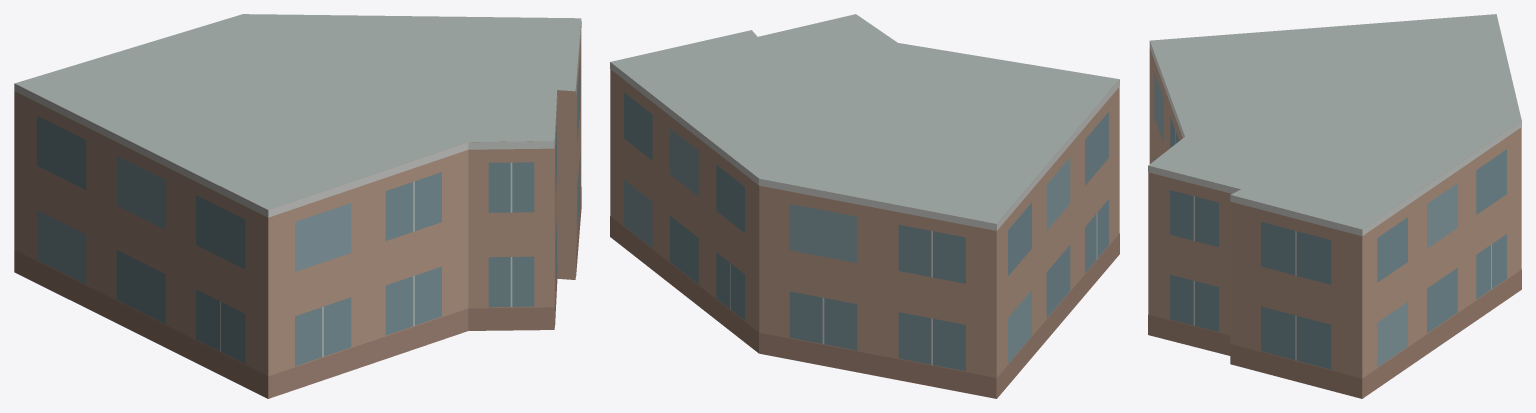
Rendered from survey-upis-32653155.glb.
The picture shows the model from 3 angles, left to right: view 1: azimuth 30°, elevation 25°; view 2: azimuth 150°, elevation 25°; view 3: azimuth 270°, elevation 25°; orthographic projection. The views are drawn at different scales.
Visible parts, largest first — view 1: survey-upis-32653155.tmp; view 2: survey-upis-32653155.tmp; view 3: survey-upis-32653155.tmp.
Boxes of the visible parts, x1,y1,x2,y2 form: survey-upis-32653155.tmp: (14, 14, 581, 398); survey-upis-32653155.tmp: (610, 14, 1119, 398); survey-upis-32653155.tmp: (1148, 14, 1521, 398).
Size of the model in its own units: 16.65 by 6.1 by 12.2.
